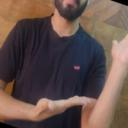hand: (34, 96, 97, 121), (110, 34, 128, 66)
